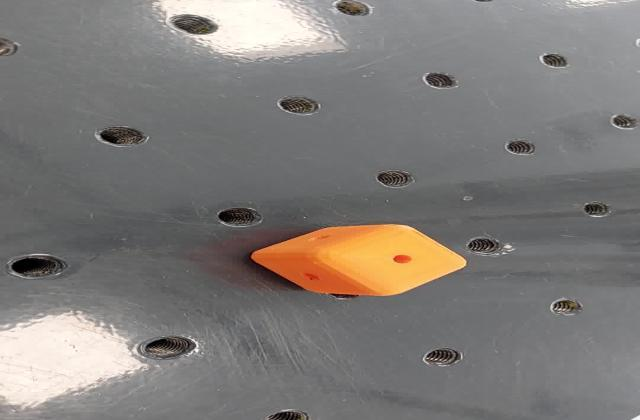cube: (237, 222, 477, 299)
